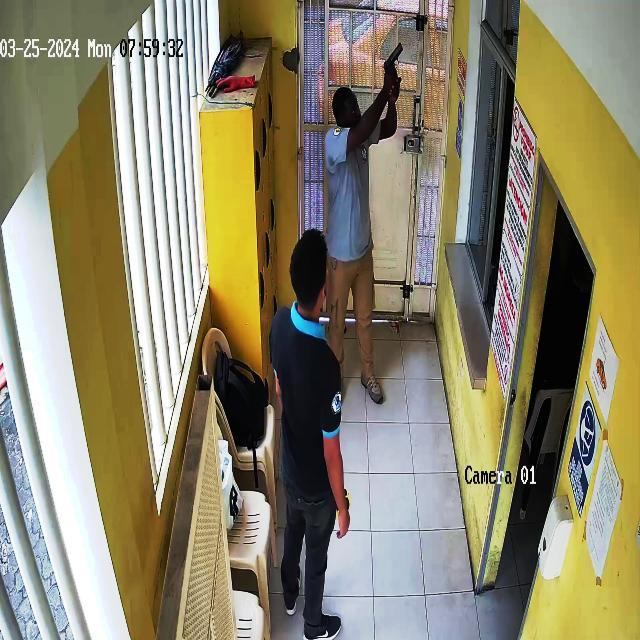Gun: (378, 34, 415, 84)
